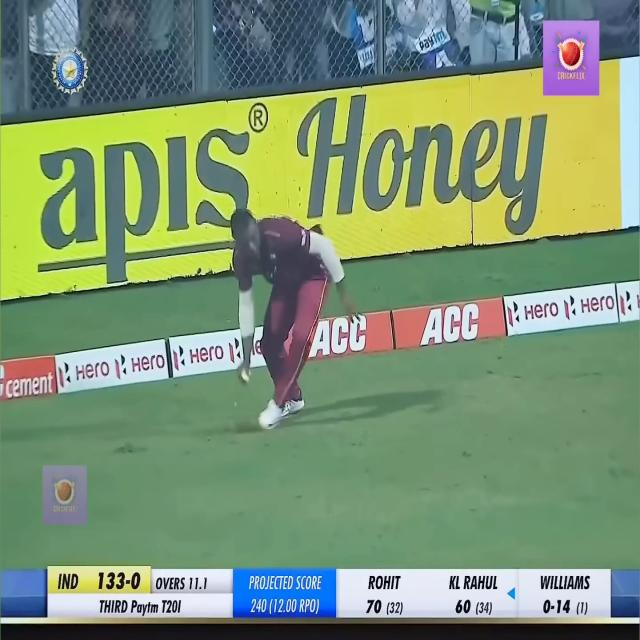fully_visible: (128, 598, 164, 620)
